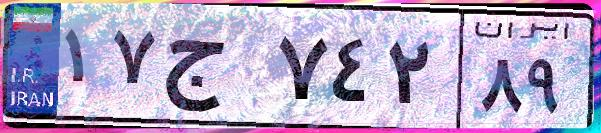1: (57, 26, 110, 100)
2: (385, 28, 445, 110)
4: (330, 28, 385, 110)
7: (270, 28, 330, 110), (110, 28, 158, 98)
8: (475, 38, 525, 113)
9: (525, 38, 570, 115)
ج: (158, 20, 270, 120)
